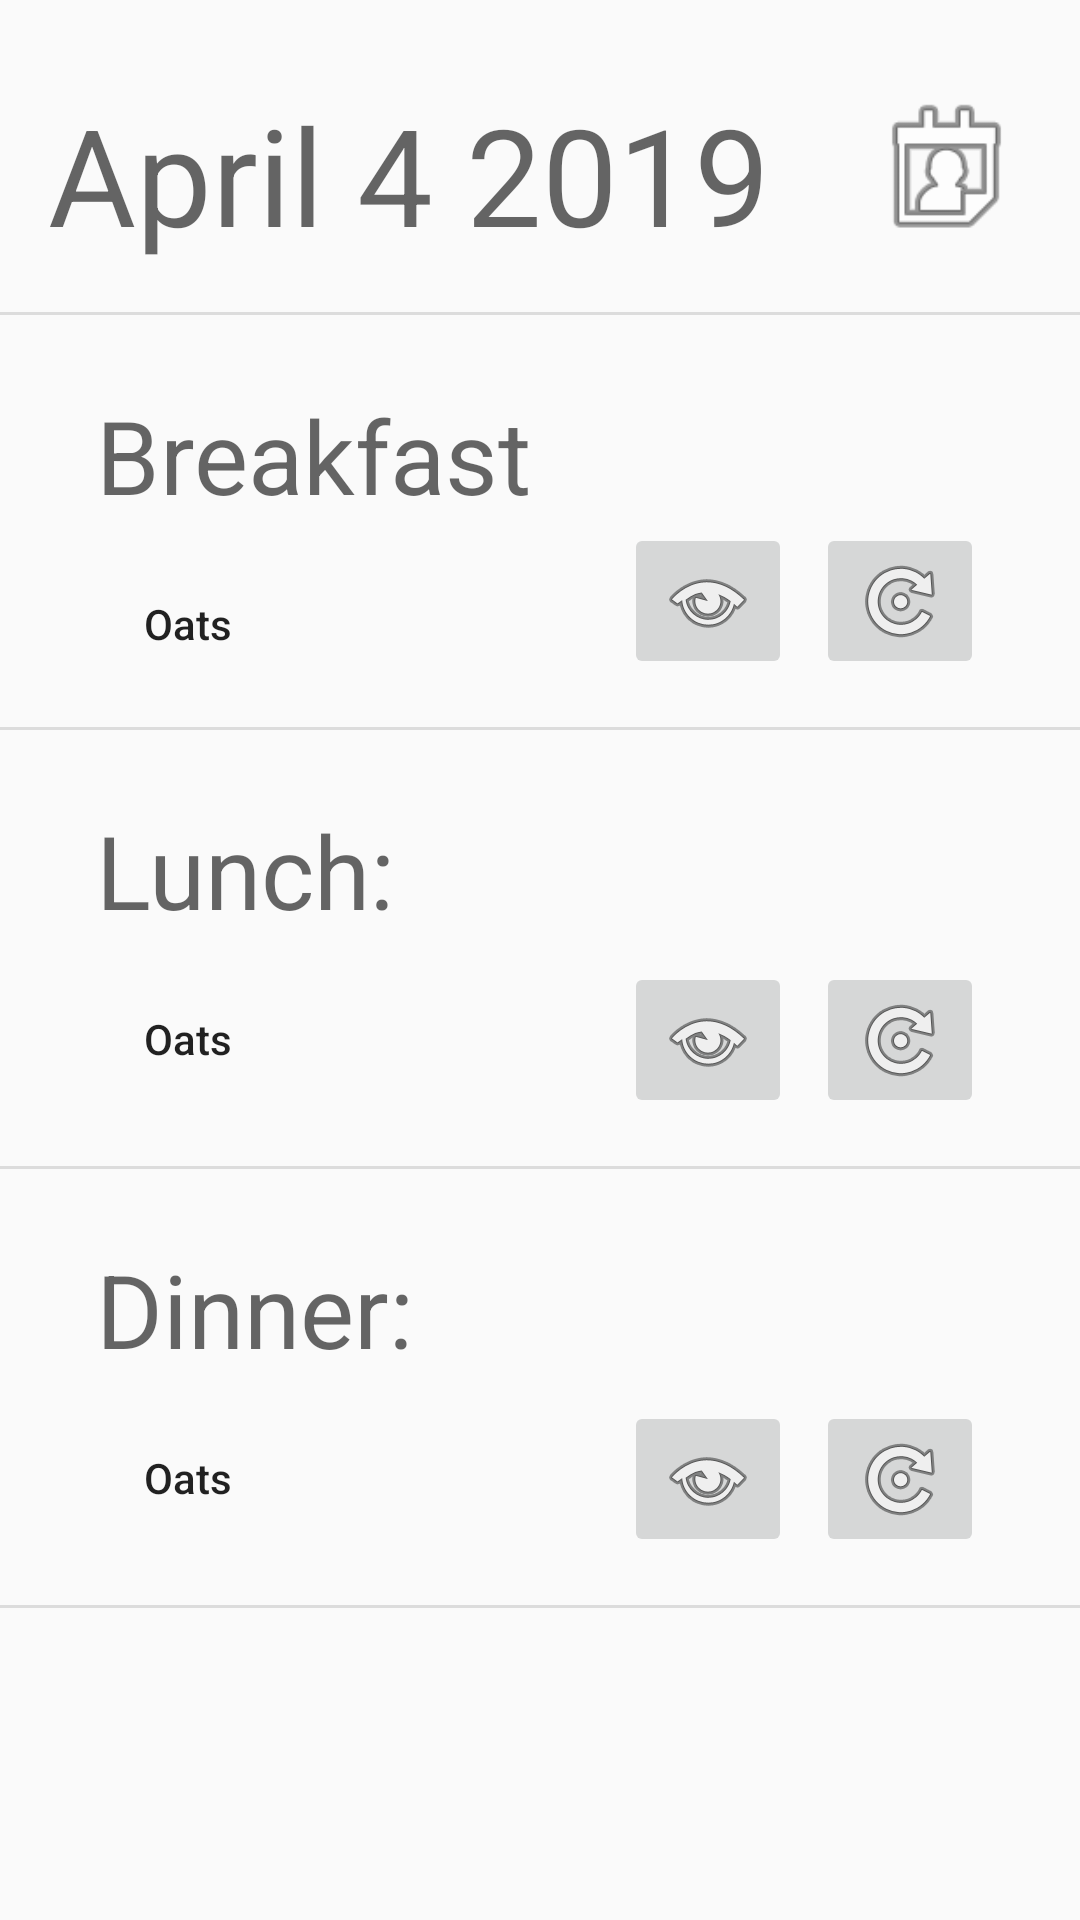

Icons on this 1080 × 1920 Android screen, each with its box as (x1, y1, x2, y2):
calendar: (892, 105, 1001, 228)
rotate: (828, 541, 972, 661), (828, 980, 972, 1100), (828, 1419, 972, 1539)
view: (636, 541, 780, 661), (636, 980, 780, 1100), (636, 1419, 780, 1539)
